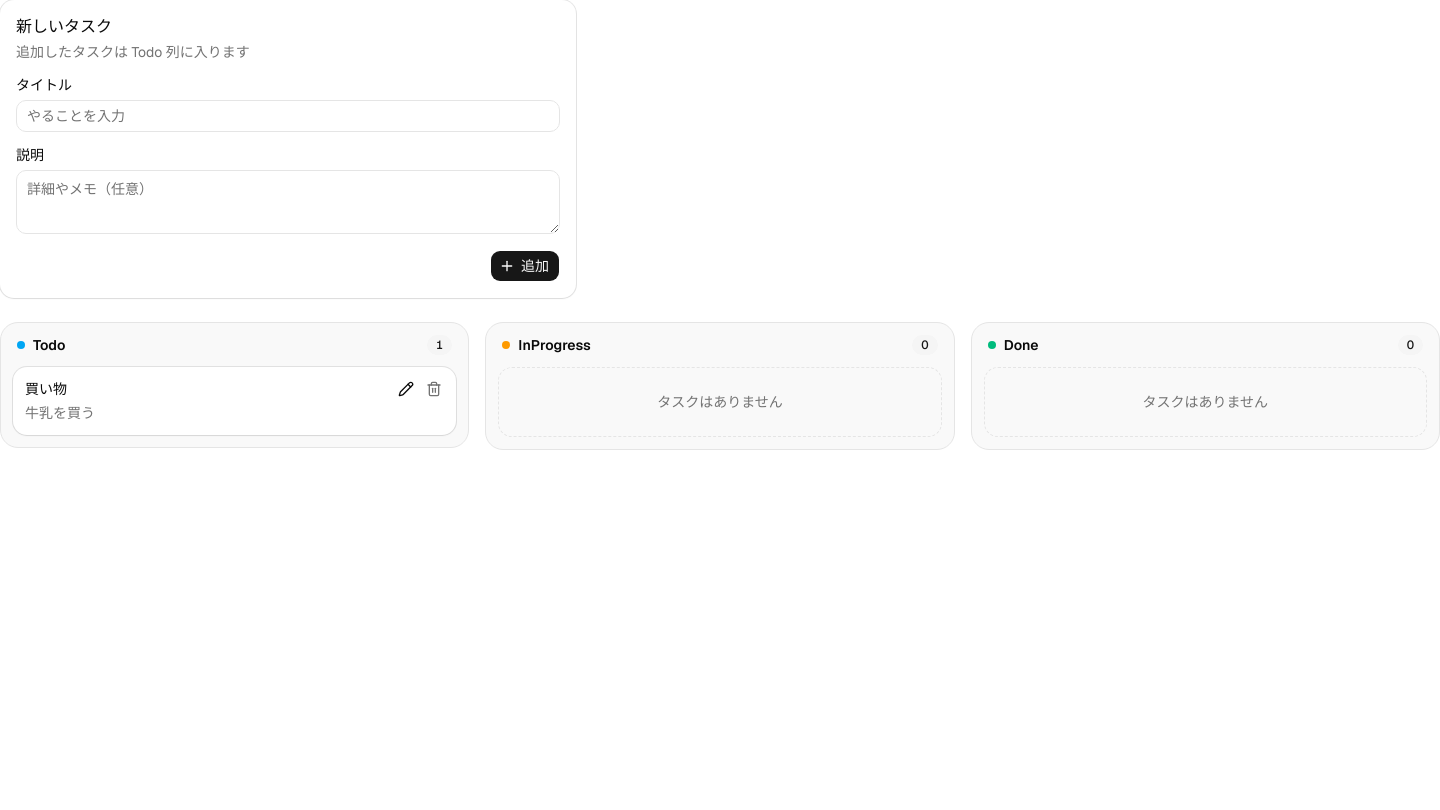
Test case: KanbanBoard › 編集 › 編集をキャンセルすると保存されず元の表示に戻る
This screenshot has width=1440, height=810.
Expected: the element "Todo" is shown, 0,322 -> 469,448
Click the button named "編集".
click(406, 389)  # box 392,375 -> 420,403
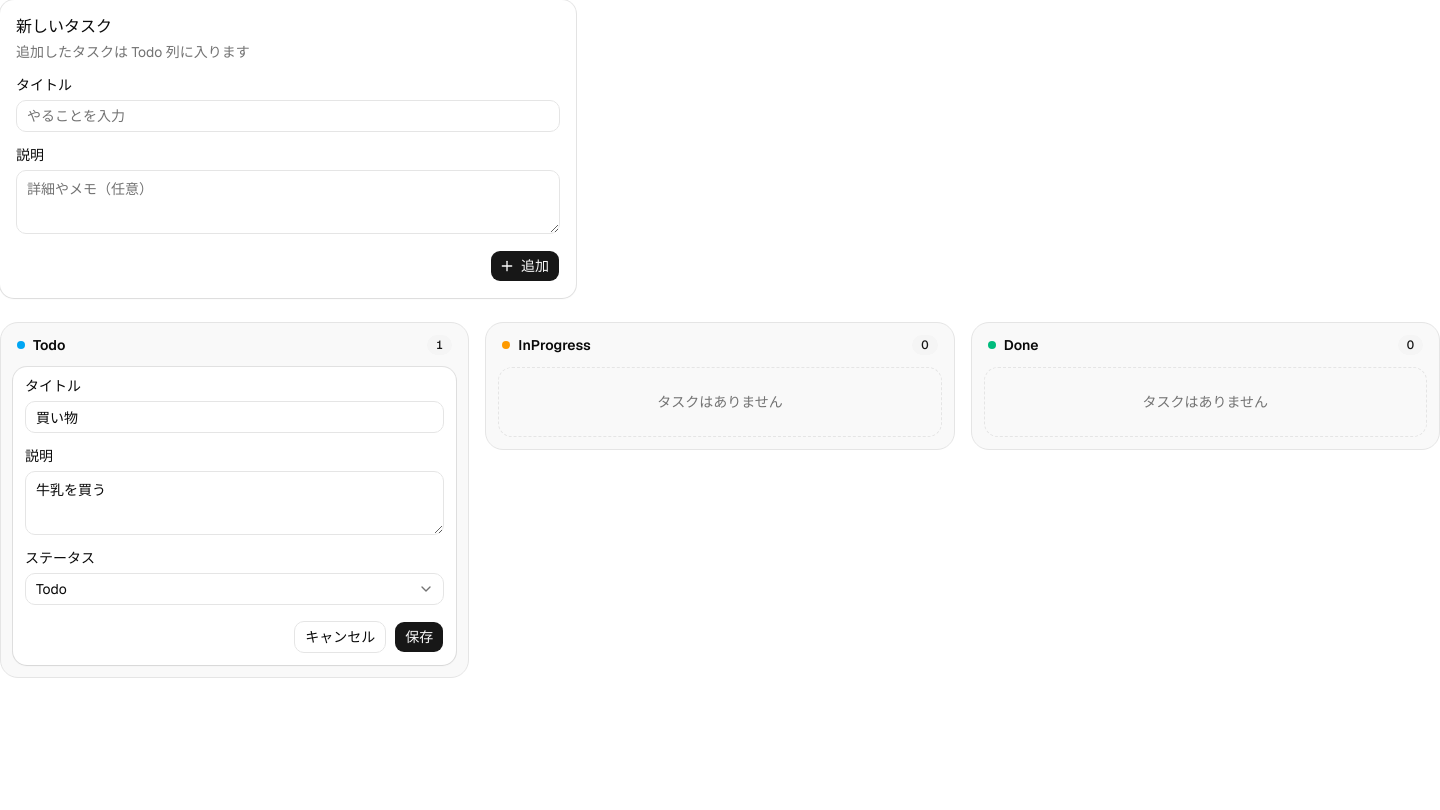
Replace the text in the field labelled "タイトル" below "InProgress" with "変更後" at point(235, 417), box 25,401 -> 444,433
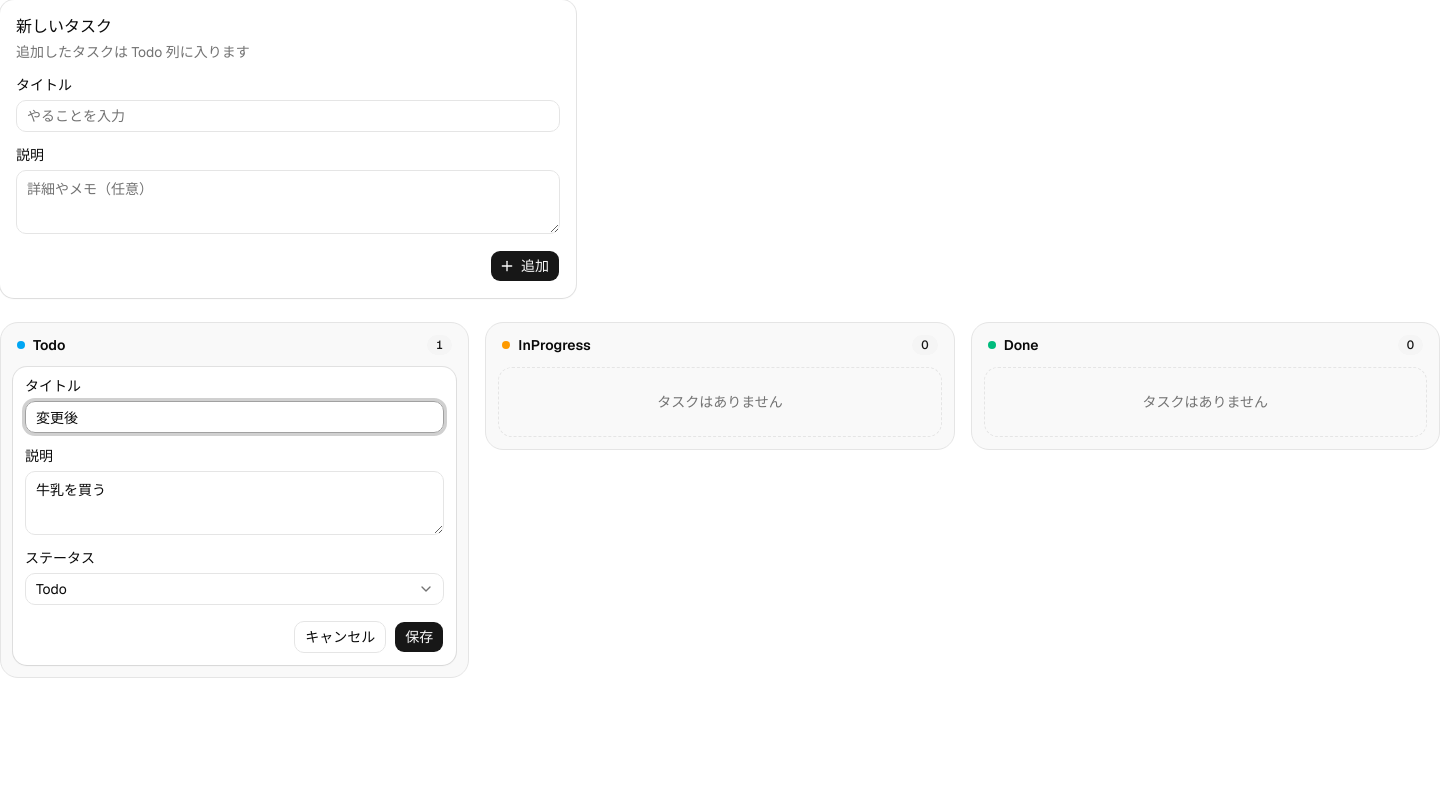
Click the button "キャンセル".
click(340, 637)  # box 294,621 -> 386,653
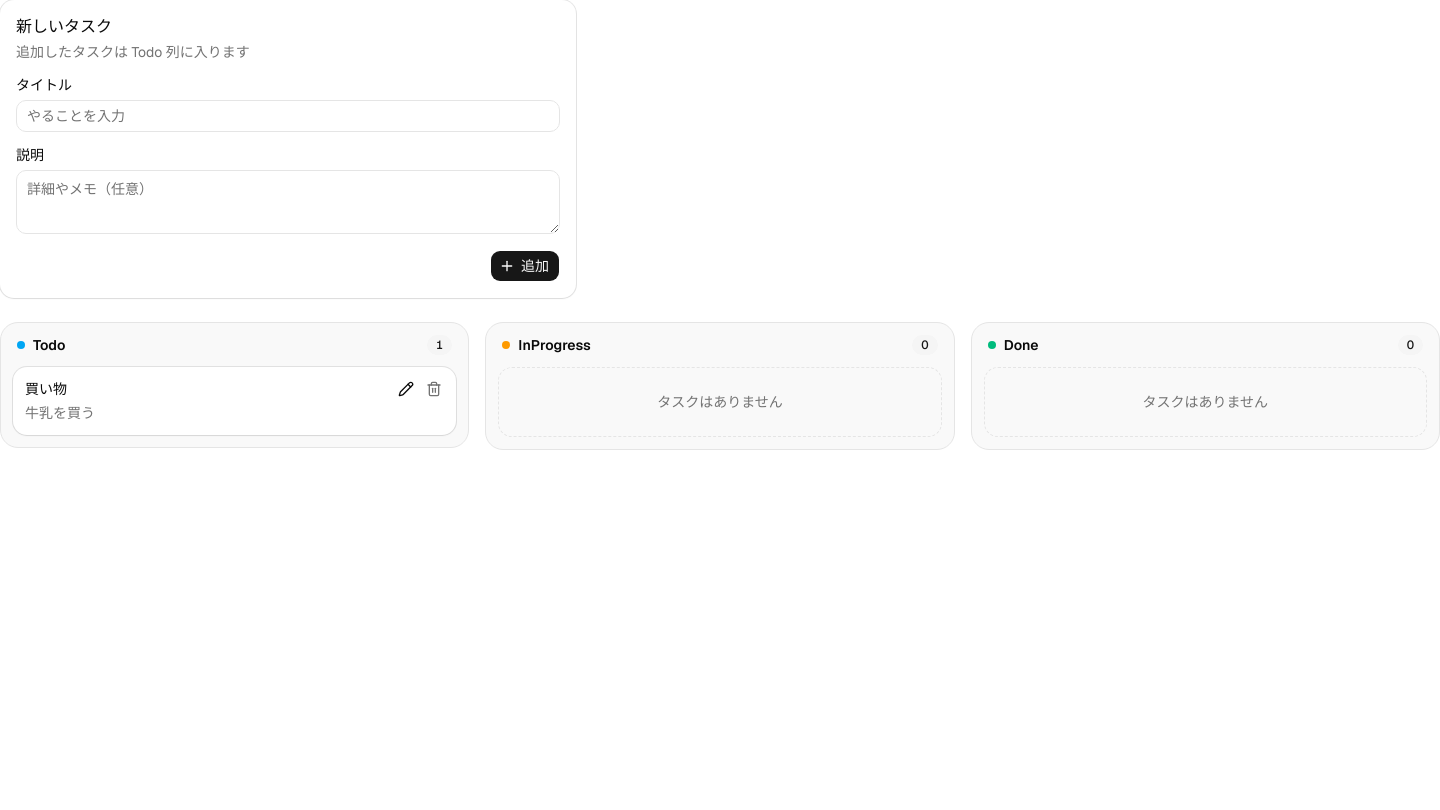
Expected: the button named "編集" is shown, 392,375 -> 420,403
